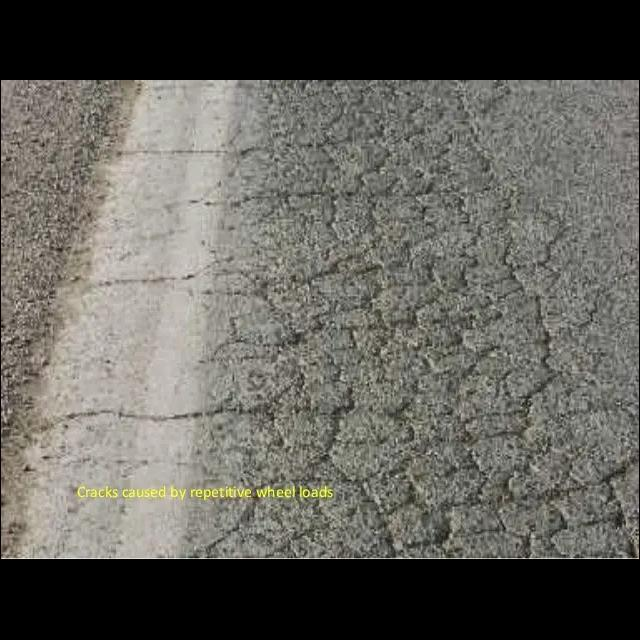retak_kulit_buaya: (174, 89, 535, 451), (355, 395, 639, 559)
